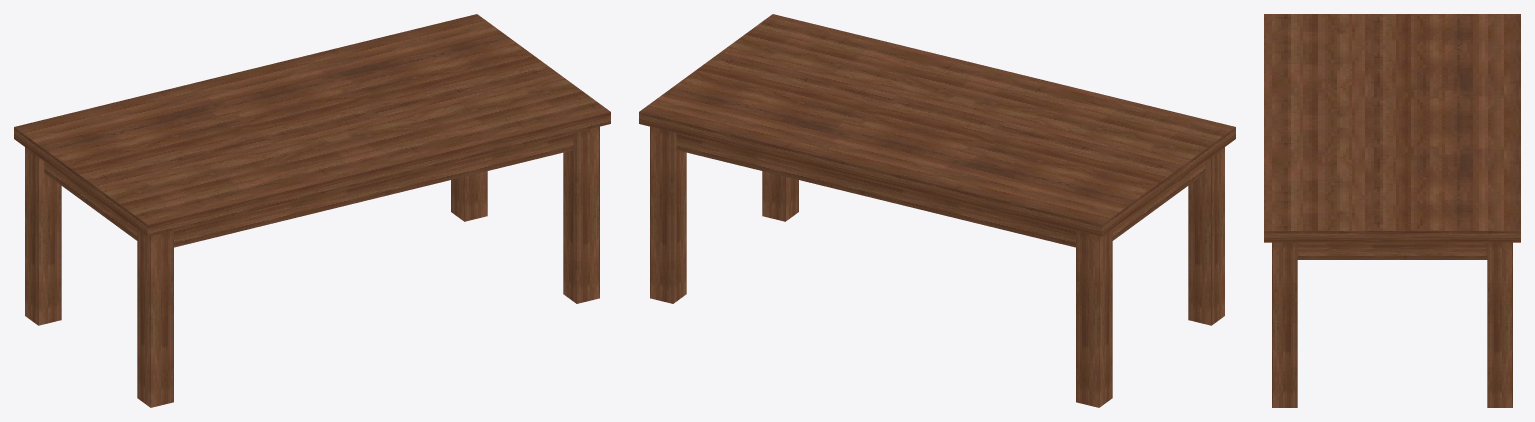
File: table.glb
3 renders of one model, left to right at view 1: azimuth 30°, elevation 25°; view 2: azimuth 150°, elevation 25°; view 3: azimuth 270°, elevation 25°, orthographic. The views are drawn at different scales.
Visible parts, largest first — view 1: Table; view 2: Table; view 3: Table.
Part boxes in pixels (x1,y1,x2,y2): Table: (14,14,610,407); Table: (639,14,1235,407); Table: (1264,14,1520,407).
Bounding box in the file's own units: 2 × 0.775 × 1.
Materials: 1 (1 with a texture image).
